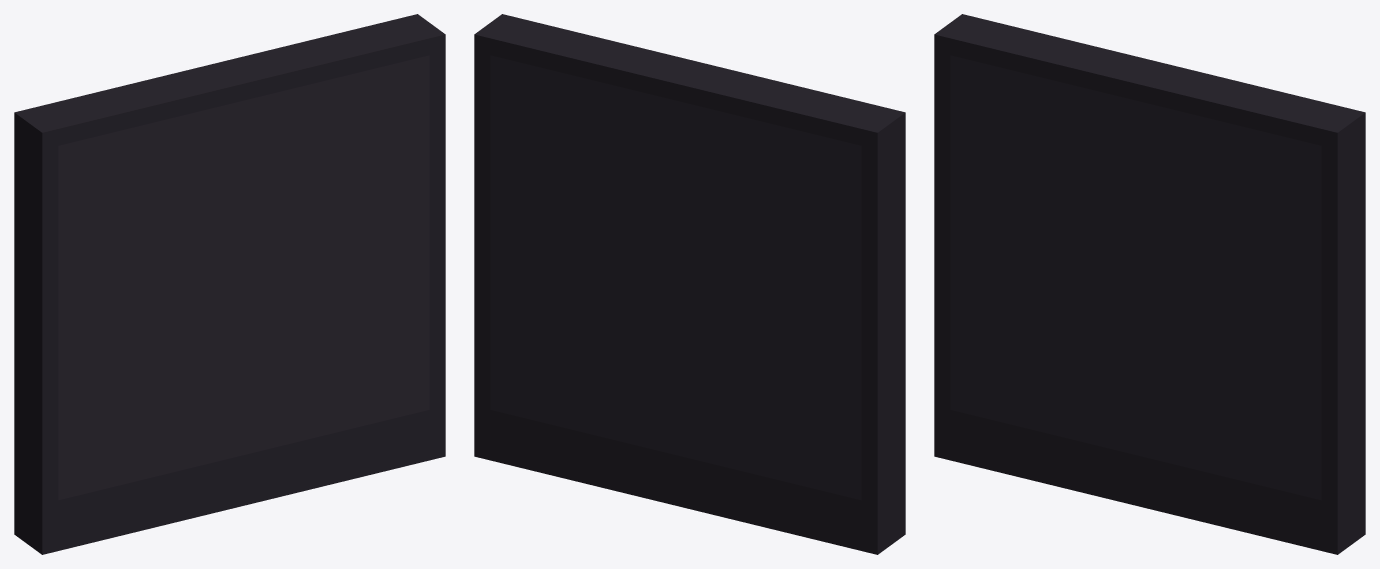
File: wall1.glb
3 views of the same model, side by side, from view 1: azimuth 30°, elevation 25°; view 2: azimuth 150°, elevation 25°; view 3: azimuth 330°, elevation 25° (orthographic).
Parts seen in each view (by area): view 1: Untitled; view 2: Untitled; view 3: Untitled.
Part boxes in pixels (bbox=[...]): Untitled: bbox=[14, 14, 445, 554]; Untitled: bbox=[474, 14, 905, 554]; Untitled: bbox=[934, 14, 1365, 554].
Size of the model in its own units: 2.5 by 2.5 by 0.3.
Materials: 1 (1 with a texture image).
